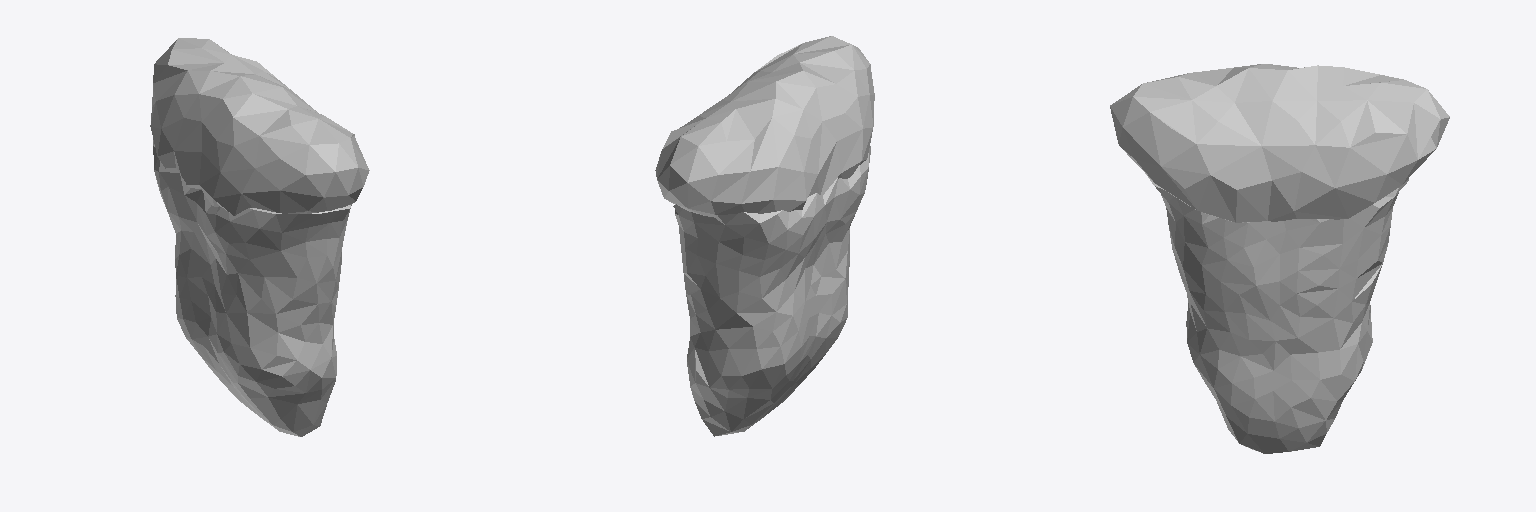
Rendered from Torso.obj.
3 views of the same model, side by side, from view 1: azimuth 30°, elevation 25°; view 2: azimuth 150°, elevation 25°; view 3: azimuth 270°, elevation 25° (orthographic).
Parts seen in each view (by area): view 1: Torso.001_Cube.021; view 2: Torso.001_Cube.021; view 3: Torso.001_Cube.021.
Part boxes in pixels (left/top/right/bottom): Torso.001_Cube.021: left=150, top=38, right=369, bottom=436; Torso.001_Cube.021: left=655, top=36, right=874, bottom=436; Torso.001_Cube.021: left=1110, top=64, right=1449, bottom=453.
Size of the model in its own units: 0.3271 by 0.8194 by 0.7024.